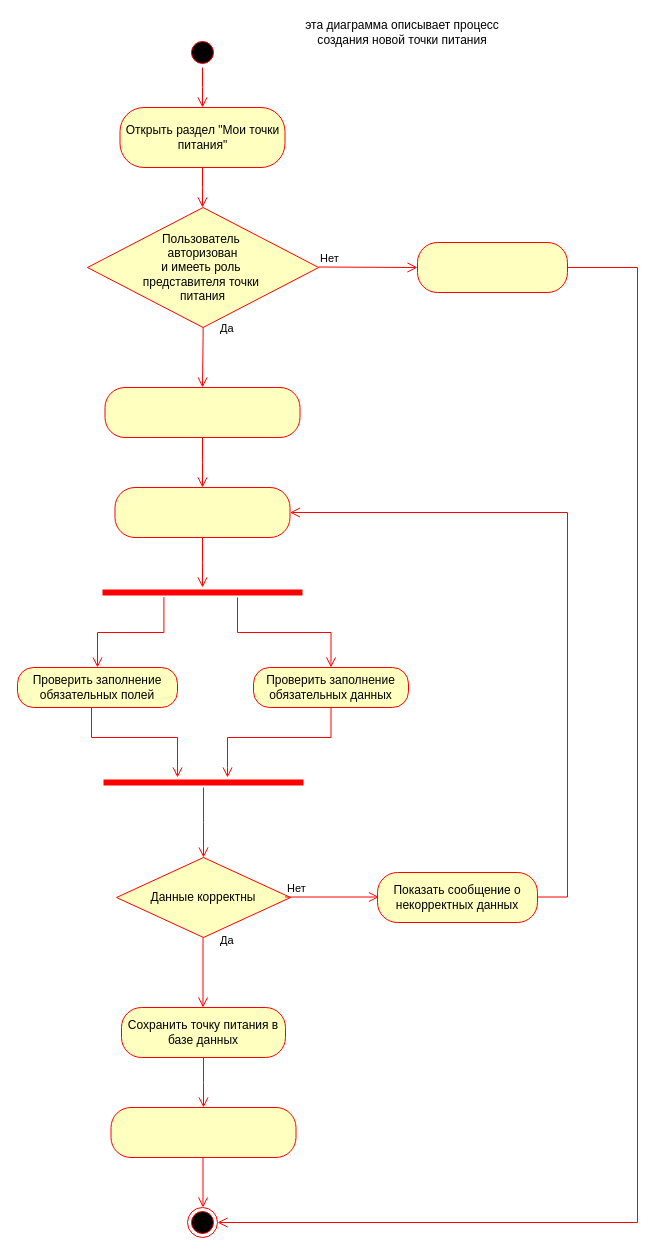
Image size: 665x1255. Some labels were removed from this diagram. The centre of each missing label's shape, as x and y in pixels:
"Ввести данные точки питания" goes at [202,512].
"Открыть форму создания точки питания" goes at [202,412].
"Показать сообщение об ошибке доступа" goes at [492,267].
"Показать сообщение об успешном создании точки" goes at [203,1132].
